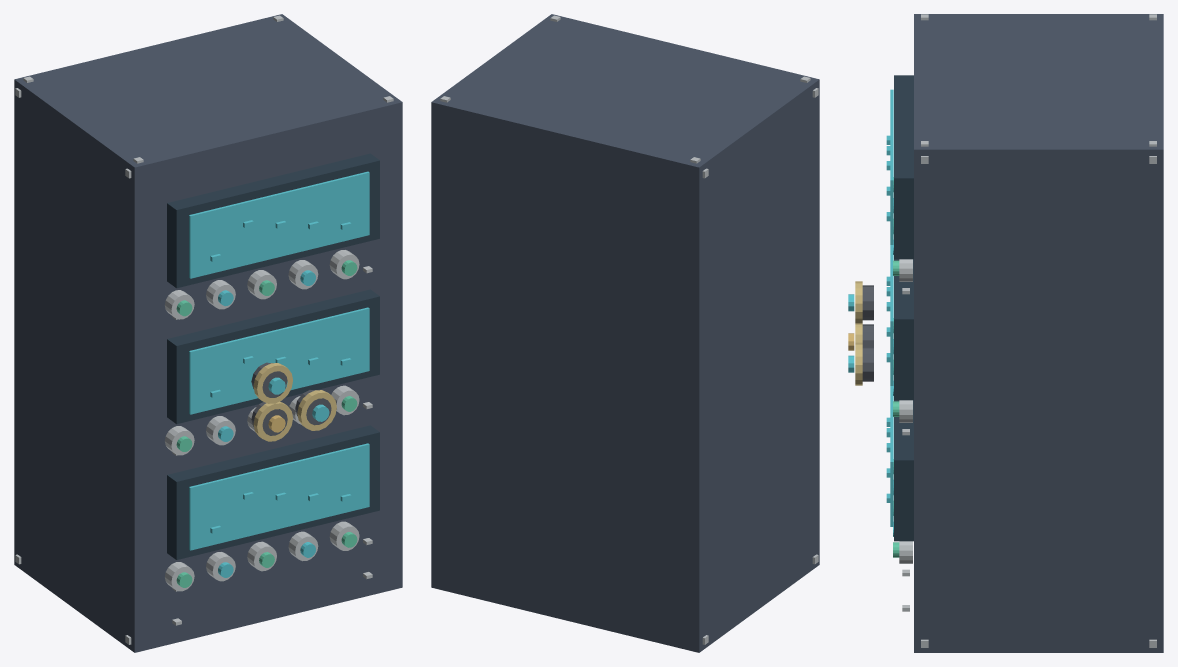
The model's file is 60_L82_RealTimeMissionWorkloadGenerator.glb.
The picture shows the model from 3 angles, left to right: view 1: azimuth 30°, elevation 25°; view 2: azimuth 150°, elevation 25°; view 3: azimuth 270°, elevation 25°; orthographic projection. The views are drawn at different scales.
Parts seen in each view (by area): view 1: RealTimeMissionWorkloadGenerator_Node_0000, RealTimeMissionWorkloadGenerator_Node_0044, RealTimeMissionWorkloadGenerator_Node_0010, RealTimeMissionWorkloadGenerator_Node_0027, RealTimeMissionWorkloadGenerator_Node_0009, RealTimeMissionWorkloadGenerator_Node_0043, RealTimeMissionWorkloadGenerator_Node_0026, RealTimeMissionWorkloadGenerator_Node_0090, RealTimeMissionWorkloadGenerator_Node_0093, RealTimeMissionWorkloadGenerator_Node_0087; view 2: RealTimeMissionWorkloadGenerator_Node_0000; view 3: RealTimeMissionWorkloadGenerator_Node_0000, RealTimeMissionWorkloadGenerator_Node_0009, RealTimeMissionWorkloadGenerator_Node_0026, RealTimeMissionWorkloadGenerator_Node_0043, RealTimeMissionWorkloadGenerator_Node_0010, RealTimeMissionWorkloadGenerator_Node_0027, RealTimeMissionWorkloadGenerator_Node_0044.
Boxes of the visible parts, <box> form: RealTimeMissionWorkloadGenerator_Node_0000: <box>14,14,402,652</box>; RealTimeMissionWorkloadGenerator_Node_0044: <box>189,443,369,550</box>; RealTimeMissionWorkloadGenerator_Node_0010: <box>189,171,369,278</box>; RealTimeMissionWorkloadGenerator_Node_0027: <box>189,307,369,414</box>; RealTimeMissionWorkloadGenerator_Node_0009: <box>167,153,379,288</box>; RealTimeMissionWorkloadGenerator_Node_0043: <box>167,425,379,559</box>; RealTimeMissionWorkloadGenerator_Node_0026: <box>167,289,379,424</box>; RealTimeMissionWorkloadGenerator_Node_0090: <box>297,390,336,430</box>; RealTimeMissionWorkloadGenerator_Node_0093: <box>253,363,292,403</box>; RealTimeMissionWorkloadGenerator_Node_0087: <box>253,401,292,441</box>; RealTimeMissionWorkloadGenerator_Node_0000: <box>431,14,819,652</box>; RealTimeMissionWorkloadGenerator_Node_0000: <box>914,14,1163,652</box>; RealTimeMissionWorkloadGenerator_Node_0009: <box>894,75,913,259</box>; RealTimeMissionWorkloadGenerator_Node_0026: <box>894,259,913,400</box>; RealTimeMissionWorkloadGenerator_Node_0043: <box>894,400,913,541</box>; RealTimeMissionWorkloadGenerator_Node_0010: <box>890,89,893,244</box>; RealTimeMissionWorkloadGenerator_Node_0027: <box>890,245,893,385</box>; RealTimeMissionWorkloadGenerator_Node_0044: <box>890,386,893,526</box>.
Size of the model in its own units: 1.06 by 1.82 by 1.02.
